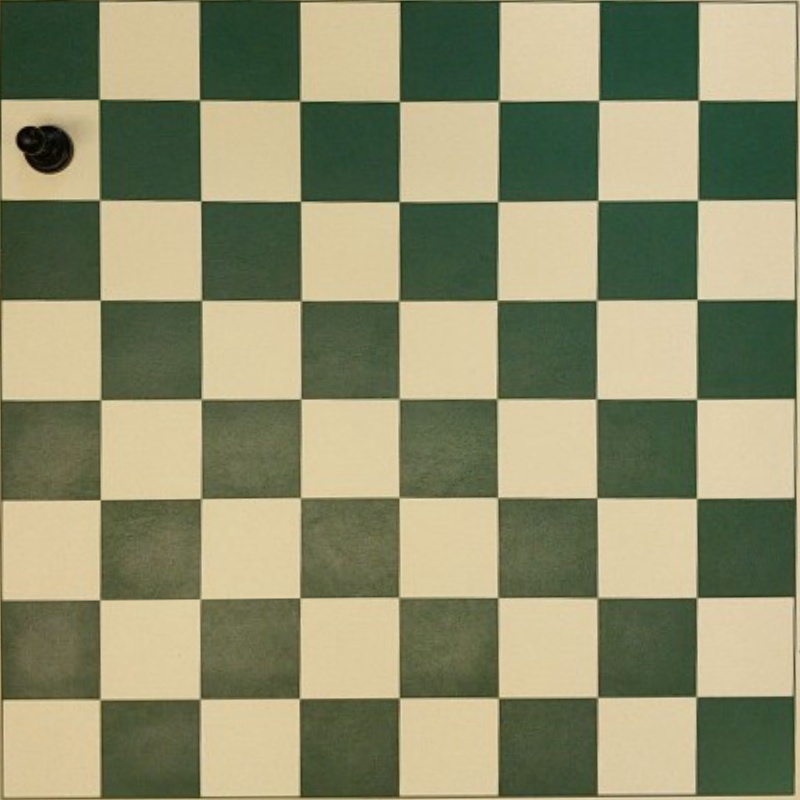black-pawn: (14, 124, 73, 173)
